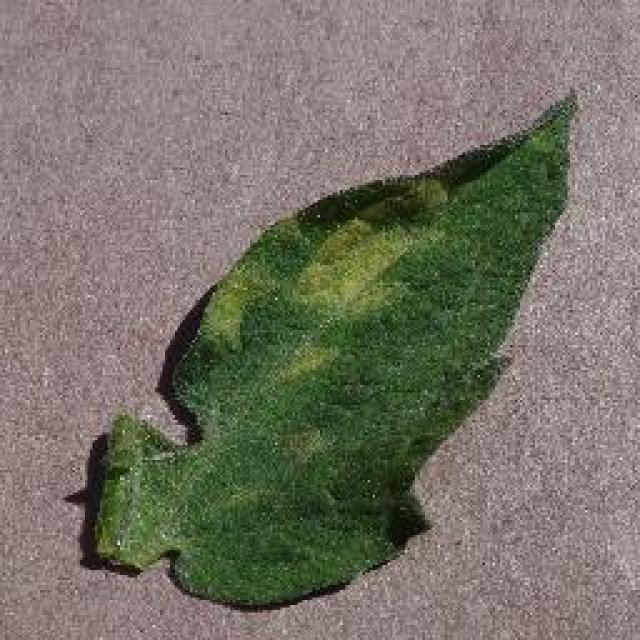Tomato mold leaf: (100, 87, 577, 610)
